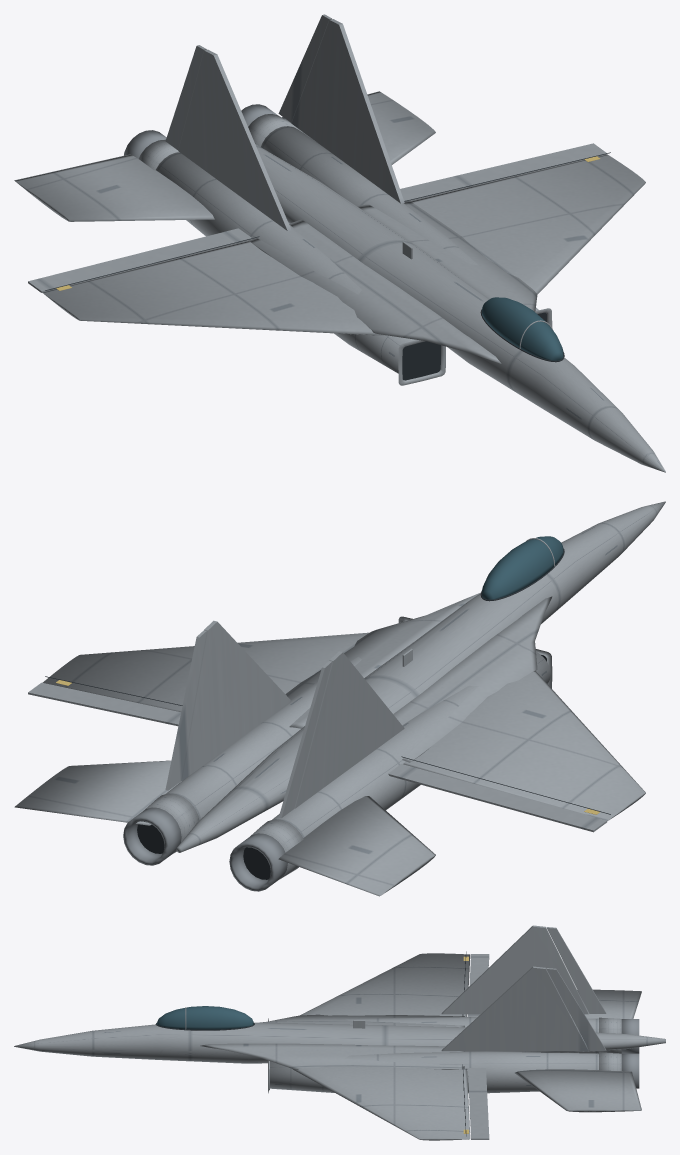
3 views of the same model, one above another, from view 1: azimuth 30°, elevation 25°; view 2: azimuth 150°, elevation 25°; view 3: azimuth 270°, elevation 25° (orthographic). The views are drawn at different scales.
Visible parts, largest first — view 1: airframe_static, tailplane_L, elevon_L, canopy, elevon_R, tailplane_R, rudder_2, rudder_1; view 2: airframe_static, tailplane_L, tailplane_R, elevon_L, canopy, elevon_R, rudder_2, rudder_1; view 3: airframe_static, tailplane_R, canopy, elevon_R, rudder_1, tailplane_L, rudder_2, elevon_L.
Part boxes in pixels (x1,y1,x2,y2): airframe_static: [42, 19, 665, 472]; tailplane_L: [14, 154, 214, 221]; elevon_L: [28, 228, 251, 292]; canopy: [480, 297, 564, 362]; elevon_R: [400, 143, 607, 200]; tailplane_R: [282, 91, 435, 164]; rudder_2: [278, 14, 331, 122]; rudder_1: [165, 45, 206, 150]; airframe_static: [43, 501, 665, 891]; tailplane_L: [278, 796, 435, 896]; tailplane_R: [14, 760, 181, 825]; elevon_L: [388, 764, 607, 832]; canopy: [480, 536, 564, 601]; elevon_R: [28, 682, 180, 726]; rudder_2: [165, 630, 206, 790]; rudder_1: [278, 661, 331, 818]; airframe_static: [14, 925, 665, 1140]; tailplane_R: [515, 1069, 641, 1112]; canopy: [156, 1006, 254, 1030]; elevon_R: [467, 1068, 489, 1139]; rudder_1: [546, 927, 606, 1013]; tailplane_L: [570, 989, 641, 1018]; rudder_2: [546, 968, 606, 1050]; elevon_L: [468, 954, 489, 1016].
Bounding box in the file's own units: 14.7 × 4.72 × 21.9.
Materials: 5 (1 with a texture image).
